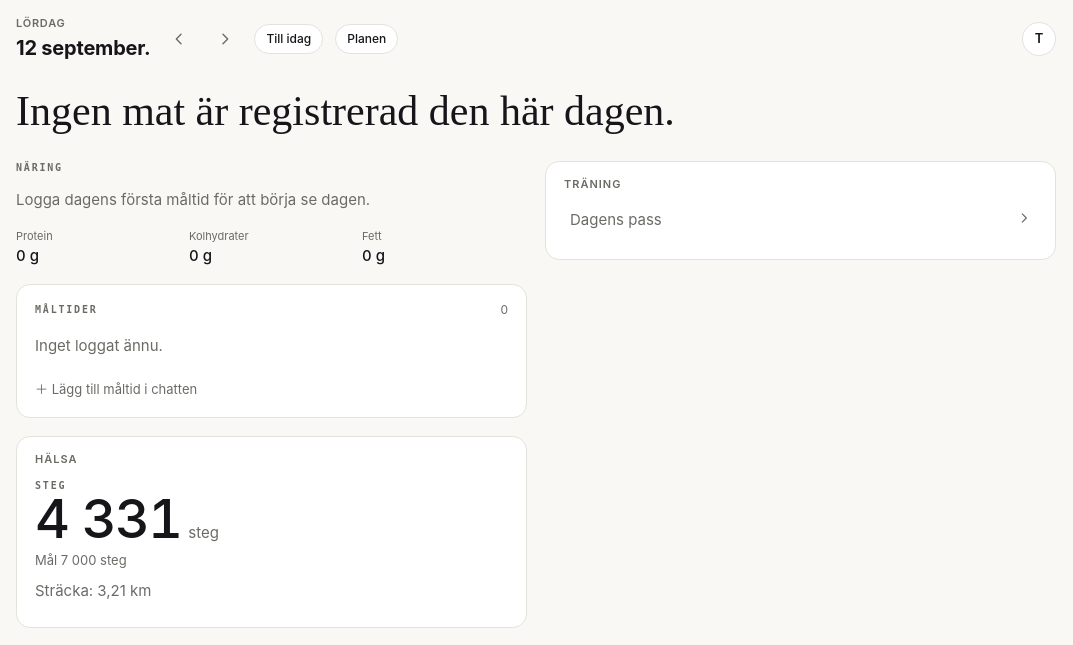
Test case: stegmodulen i den verkliga dagsytan › döljer föregående dags steg direkt när datum byts och visar nästa svar
This screenshot has width=1073, height=645.
Click the button named "Föregående dag".
click(180, 39)  # box [162,22,196,56]
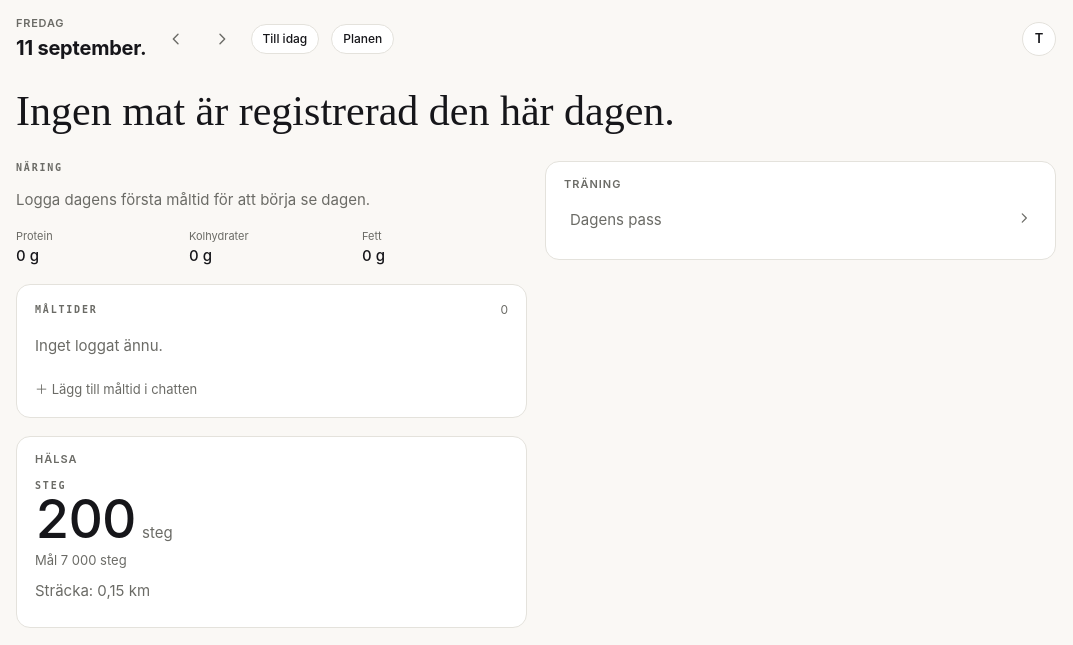
Now the element with class "steps-module" shows "200", box [35,486,135,551]
Now the text with class "steps-distance" reads "Sträcka: 0,15 km", box [35,581,150,600]
Now the text "4 331" is gone
